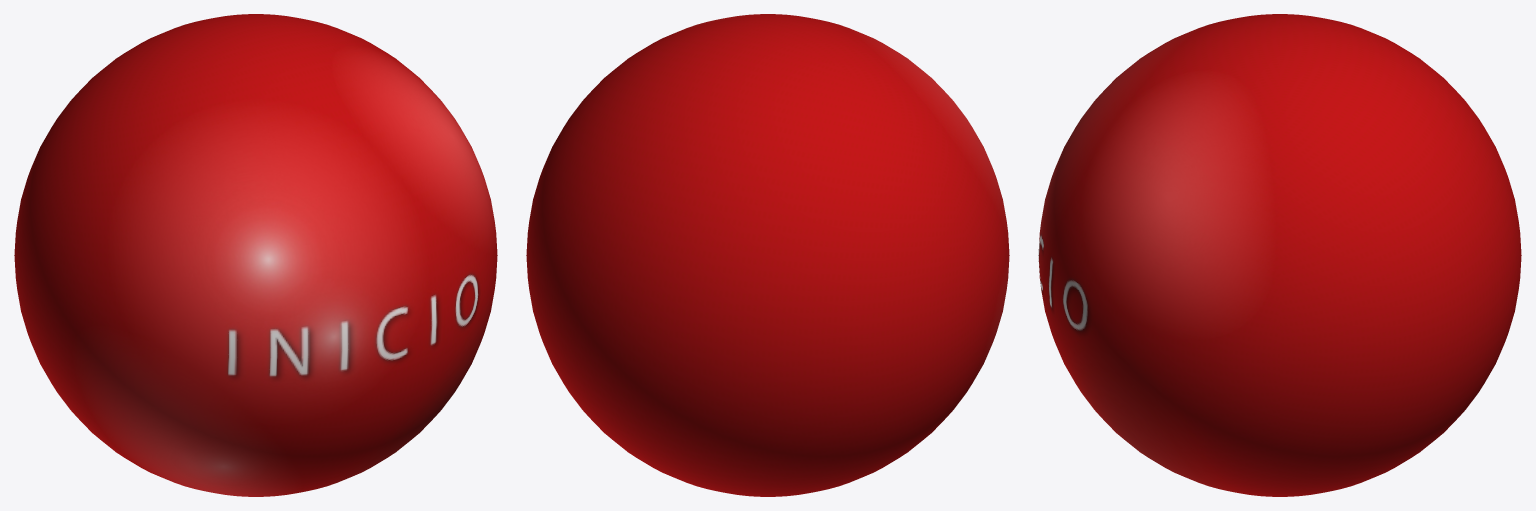
The model's file is esfera-inicio.gltf.
3 renders of one model, left to right at view 1: azimuth 30°, elevation 25°; view 2: azimuth 150°, elevation 25°; view 3: azimuth 270°, elevation 25°, orthographic.
Parts seen in each view (by area): view 1: Sphere001; view 2: Sphere001; view 3: Sphere001.
Part boxes in pixels (x1,y1,x2,y2): Sphere001: (14, 14, 497, 496); Sphere001: (526, 14, 1009, 496); Sphere001: (1038, 14, 1521, 496).
Size of the model in its own units: 0.0485 by 0.0485 by 0.0485.
Materials: 1 (1 with a texture image).
